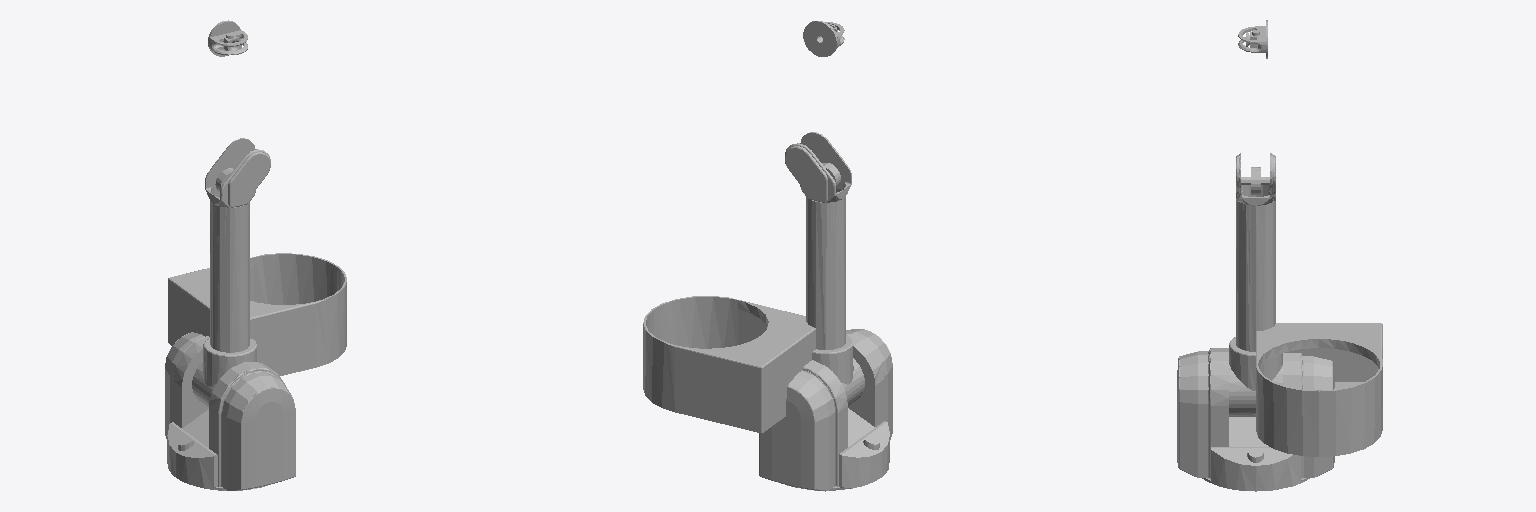
robot.urdf — iri_wam:
<?xml version="1.0" ?>
<!-- =================================================================================== -->
<!-- |    This document was autogenerated by xacro from xacro/wam.urdf.xacro           | -->
<!-- |    EDITING THIS FILE BY HAND IS NOT RECOMMENDED                                 | -->
<!-- =================================================================================== -->
<robot name="iri_wam" xmlns:xacro="http://www.ros.org/wiki/xacro">
  <!-- Set up definitions of parts of the robot body -->
  <!-- The first use of a macro. This one was defined in wambase.urdf.xacro above.
       A macro like this will expand to a set of link and joint definitions, and to additional
       Gazebo-related extensions (sensor plugins, etc).  The macro takes an argument, name, 
       that equals "wam", and uses it to generate names for its component links and joints 
       (e.g., wam_link_base).  The included origin block is also an argument to the macro.  By convention, 
       the origin block defines where the component is w.r.t its parent (in this case the parent 
       is the world frame). For more, see http://www.ros.org/wiki/xacro -->
  <link name="iri_wam_link_base">
    <inertial>
      <mass value="20"/>
      <origin xyz="0.0 0.0 0.0"/>
      <inertia ixx="1.0" ixy="0.0" ixz="0.0" iyy="1.0" iyz="0.0" izz="1.0"/>
    </inertial>
    <visual>
      <origin rpy="0 0 0" xyz="0 0 0"/>
      <geometry>
        <mesh filename="package://iri_wam_description/mesh/wambase.stl" scale="1.0 1.0 1.0"/>
      </geometry>
      <material name="Grey">
        <color rgba="0.75 0.75 0.75 1.0"/>
      </material>
    </visual>
    <collision>
      <origin rpy="0 0 0" xyz="0.0 0.0 0.0"/>
      <geometry>
        <mesh filename="package://iri_wam_description/mesh/wambase.stl" scale="1.0 1.0 1.0"/>
      </geometry>
      <contact_coefficients kd="1.0" kp="1000.0" mu="0"/>
    </collision>
  </link>
  <link name="iri_wam_link_footprint"/>
  <joint name="iri_wam_joint_footprint" type="fixed">
    <origin rpy="0 0 0" xyz="0.22 0.14 0.346"/>
    <child link="iri_wam_link_base"/>
    <parent link="iri_wam_link_footprint"/>
  </joint>
  <gazebo reference="iri_wam_link_base">
    <selfCollide>true</selfCollide>
    <material>Gazebo/Grey</material>
  </gazebo>
  <link name="iri_wam_link_1">
    <inertial>
      <mass value="8.3936"/>
      <origin rpy="0 0 0" xyz="0.0 0.0 0.0"/>
      <inertia ixx="1.0" ixy="0.0" ixz="0.0" iyy="1.0" iyz="0.0" izz="1.0"/>
    </inertial>
    <visual>
      <origin rpy="0 0 0" xyz="0.0 0.0 0.0"/>
      <geometry name="iri_wam_link_1_visual">
        <mesh filename="package://iri_wam_description/mesh/wam1.stl" scale="1.0 1.0 1.0"/>
      </geometry>
      <material name="Grey">
        <color rgba="0.75 0.75 0.75 1.0"/>
      </material>
    </visual>
    <collision>
      <origin rpy="0 0 0" xyz="0.0 0.0 0.0"/>
      <geometry name="iri_wam_link_1_collision">
        <mesh filename="package://iri_wam_description/mesh/wam1.stl" scale="1.0 1.0 1.0"/>
        <!--                <box size="0.20 0.40 0.40"/> -->
      </geometry>
      <contact_coefficients kd="1.0" kp="1000.0" mu="0"/>
    </collision>
  </link>
  <gazebo reference="iri_wam_link_1">
    <material>Gazebo/Grey</material>
    <selfCollide>true</selfCollide>
  </gazebo>
  <joint name="iri_wam_joint_1" type="revolute">
    <parent link="iri_wam_link_base"/>
    <child link="iri_wam_link_1"/>
    <origin rpy="0 0 0" xyz="0.0 0.0 0.0"/>
    <axis xyz="0 0 1"/>
    <limit effort="30" lower="-2.6" upper="2.6" velocity="2.0"/>
    <!-- <safety_controller k_velocity="0.5"/> -->
    <dynamics damping="100"/>
  </joint>
  <transmission name="j1_transmission" type="pr2_mechanism_model/SimpleTransmission">
    <actuator name="j1"/>
    <joint name="iri_wam_joint_1"/>
    <mechanicalReduction>1</mechanicalReduction>
    <motorTorqueConstant>1</motorTorqueConstant>
    <!-- <pulsesPerRevolution>90000</pulsesPerRevolution> -->
  </transmission>
  <link name="iri_wam_link_2">
    <inertial>
      <mass value="4.8487"/>
      <origin rpy="0 0 0" xyz="0 0 0"/>
      <inertia ixx="1.0" ixy="0.0" ixz="0.0" iyy="1.0" iyz="0.0" izz="1.0"/>
    </inertial>
    <visual>
      <origin rpy="0 0 0" xyz="0.0 0.0 0.0"/>
      <geometry name="iri_wam_link_2_visual">
        <mesh filename="package://iri_wam_description/mesh/wam2.stl" scale="1.0 1.0 1.0"/>
      </geometry>
      <material name="Grey">
        <color rgba="0.75 0.75 0.75 1.0"/>
      </material>
    </visual>
    <collision>
      <origin rpy="0 0 0" xyz="0.0 0.0 0.0"/>
      <geometry name="iri_wam_link_2_collision">
        <mesh filename="package://iri_wam_description/mesh/wam2.stl" scale="1.0 1.0 1.0"/>
        <!--                <box size="0.10 0.10 0.10"/> -->
      </geometry>
      <contact_coefficients kd="1.0" kp="1000.0" mu="0"/>
    </collision>
  </link>
  <gazebo reference="iri_wam_link_2">
    <material>Gazebo/Grey</material>
    <selfCollide>true</selfCollide>
  </gazebo>
  <joint name="iri_wam_joint_2" type="revolute">
    <parent link="iri_wam_link_1"/>
    <child link="iri_wam_link_2"/>
    <origin rpy="0 0 0" xyz="0.0 0.0 0.0"/>
    <axis xyz="0 1 0"/>
    <limit effort="30" lower="-2.0" upper="2.0" velocity="2.0"/>
    <!-- <safety_controller k_velocity="0.5"/> -->
    <dynamics damping="100"/>
  </joint>
  <transmission name="j2_transmission" type="pr2_mechanism_model/SimpleTransmission">
    <actuator name="j2"/>
    <joint name="iri_wam_joint_2"/>
    <mechanicalReduction>1</mechanicalReduction>
    <motorTorqueConstant>1</motorTorqueConstant>
    <!-- <pulsesPerRevolution>90000</pulsesPerRevolution> -->
  </transmission>
  <link name="iri_wam_link_3">
    <inertial>
      <mass value="1.7251"/>
      <origin rpy="0 0 0" xyz="0 0 0.225"/>
      <inertia ixx="1.0" ixy="0.0" ixz="0.0" iyy="1.0" iyz="0.0" izz="1.0"/>
    </inertial>
    <visual>
      <origin rpy="0 0 0" xyz="0.0 0.0 0.0"/>
      <geometry name="iri_wam_link_3_visual">
        <mesh filename="package://iri_wam_description/mesh/wam3.stl" scale="1.0 1.0 1.0"/>
      </geometry>
      <material name="Grey">
        <color rgba="0.75 0.75 0.75 1.0"/>
      </material>
    </visual>
    <collision>
      <origin rpy="0 0 0" xyz="0.0 0.0 0.0"/>
      <geometry name="iri_wam_link_3_collision">
        <mesh filename="package://iri_wam_description/mesh/wam3.stl" scale="1.0 1.0 1.0"/>
        <!--                <box size="0.10 0.10 0.10"/> -->
      </geometry>
      <contact_coefficients kd="1.0" kp="1000.0" mu="0"/>
    </collision>
  </link>
  <gazebo reference="iri_wam_link_3">
    <material>Gazebo/Grey</material>
    <selfCollide>true</selfCollide>
  </gazebo>
  <joint name="iri_wam_joint_3" type="revolute">
    <parent link="iri_wam_link_2"/>
    <child link="iri_wam_link_3"/>
    <origin rpy="0 0 0" xyz="0.0 0.0 0.0"/>
    <axis xyz="0 0 1"/>
    <limit effort="30" lower="-2.8" upper="2.8" velocity="2.0"/>
    <!-- <safety_controller k_velocity="0.5"/> -->
    <dynamics damping="100"/>
  </joint>
  <transmission name="j3_transmission" type="pr2_mechanism_model/SimpleTransmission">
    <actuator name="j3"/>
    <joint name="iri_wam_joint_3"/>
    <mechanicalReduction>1</mechanicalReduction>
    <motorTorqueConstant>1</motorTorqueConstant>
    <!-- <pulsesPerRevolution>90000</pulsesPerRevolution> -->
  </transmission>
  <link name="iri_wam_link_4">
    <inertial>
      <mass value="2.0824"/>
      <origin rpy="0 0 0" xyz="-0.045 -0.15 0"/>
      <inertia ixx="1.0" ixy="0.0" ixz="0.0" iyy="1.0" iyz="0.0" izz="1.0"/>
    </inertial>
    <visual>
      <origin rpy="0 0 0" xyz="0.0 0.0 0.0"/>
      <geometry name="iri_wam_link_4_visual">
        <mesh filename="package://iri_wam_description/mesh/wam4.stl" scale="1.0 1.0 1.0"/>
      </geometry>
      <material name="Grey">
        <color rgba="0.75 0.75 0.75 1.0"/>
      </material>
    </visual>
    <collision>
      <origin rpy="0 0 0" xyz="0.0 0.0 0.0"/>
      <geometry name="iri_wam_link_4_collision">
        <mesh filename="package://iri_wam_description/mesh/wam4.stl" scale="1.0 1.0 1.0"/>
        <!--                <box size="0.10 0.10 0.10"/> -->
      </geometry>
      <contact_coefficients kd="1.0" kp="1000.0" mu="0"/>
    </collision>
  </link>
  <gazebo reference="iri_wam_link_4">
    <material>Gazebo/Grey</material>
    <selfCollide>true</selfCollide>
  </gazebo>
  <joint name="iri_wam_joint_4" type="revolute">
    <parent link="iri_wam_link_3"/>
    <child link="iri_wam_link_4"/>
    <origin rpy="-1.57079632679 0 0" xyz="0.045 0.0 0.55"/>
    <axis xyz="0 0 1"/>
    <limit effort="35" lower="-0.9" upper="2.8" velocity="2.0"/>
    <!-- <safety_controller k_velocity="0.5"/> -->
    <dynamics damping="100"/>
  </joint>
  <transmission name="j4_transmission" type="pr2_mechanism_model/SimpleTransmission">
    <actuator name="j4"/>
    <joint name="iri_wam_joint_4"/>
    <mechanicalReduction>1</mechanicalReduction>
    <motorTorqueConstant>1</motorTorqueConstant>
    <!-- <pulsesPerRevolution>90000</pulsesPerRevolution> -->
  </transmission>
  <link name="iri_wam_link_5">
    <inertial>
      <mass value="0.3067"/>
      <origin rpy="0 0 0" xyz="0 0 0"/>
      <inertia ixx="1.0" ixy="0.0" ixz="0.0" iyy="1.0" iyz="0.0" izz="1.0"/>
    </inertial>
    <visual>
      <origin rpy="0 0 0" xyz="0.0 0.0 0.0"/>
      <geometry name="iri_wam_link_5_visual">
        <mesh filename="package://iri_wam_description/mesh/wam5.stl" scale="1.0 1.0 1.0"/>
      </geometry>
      <material name="Grey">
        <color rgba="0.75 0.75 0.75 1.0"/>
      </material>
    </visual>
    <collision>
      <origin rpy="0 0 0" xyz="0.0 0.0 0.0"/>
      <geometry name="iri_wam_link_5_collision">
        <mesh filename="package://iri_wam_description/mesh/wam5.stl" scale="1.0 1.0 1.0"/>
        <!--                <box size="0.10 0.10 0.10"/> -->
      </geometry>
      <contact_coefficients kd="1.0" kp="1000.0" mu="0"/>
    </collision>
  </link>
  <gazebo reference="iri_wam_link_5">
    <material>Gazebo/Grey</material>
    <selfCollide>true</selfCollide>
  </gazebo>
  <joint name="iri_wam_joint_5" type="revolute">
    <parent link="iri_wam_link_4"/>
    <child link="iri_wam_link_5"/>
    <origin rpy="1.57079632679 0 0" xyz="-0.045 -0.3 0.0"/>
    <axis xyz="0 0 1"/>
    <limit effort="30" lower="-4.8" upper="1.3" velocity="2.0"/>
    <!-- <safety_controller k_velocity="0.5"/> -->
    <dynamics damping="100"/>
  </joint>
  <transmission name="j5_transmission" type="pr2_mechanism_model/SimpleTransmission">
    <actuator name="j5"/>
    <joint name="iri_wam_joint_5"/>
    <mechanicalReduction>1</mechanicalReduction>
    <motorTorqueConstant>1</motorTorqueConstant>
    <!-- <pulsesPerRevolution>90000</pulsesPerRevolution> -->
  </transmission>
  <link name="iri_wam_link_6">
    <inertial>
      <mass value="0.4278"/>
      <origin rpy="0 0 0" xyz="0 0 0"/>
      <inertia ixx="1.0" ixy="0.0" ixz="0.0" iyy="1.0" iyz="0.0" izz="1.0"/>
    </inertial>
    <visual>
      <origin rpy="0 0 0" xyz="0.0 0.0 0.0"/>
      <geometry name="iri_wam_link_6_visual">
        <mesh filename="package://iri_wam_description/mesh/wam6.stl" scale="1.0 1.0 1.0"/>
      </geometry>
      <material name="Grey">
        <color rgba="0.75 0.75 0.75 1.0"/>
      </material>
    </visual>
    <collision>
      <origin rpy="0 0 0" xyz="0.0 0.0 0.0"/>
      <geometry name="iri_wam_link_6_collision">
        <mesh filename="package://iri_wam_description/mesh/wam6.stl" scale="1.0 1.0 1.0"/>
        <!--                <box size="0.10 0.10 0.10"/> -->
      </geometry>
      <contact_coefficients kd="1.0" kp="1000.0" mu="0"/>
    </collision>
  </link>
  <gazebo reference="iri_wam_link_6">
    <material>Gazebo/Grey</material>
    <selfCollide>true</selfCollide>
  </gazebo>
  <joint name="iri_wam_joint_6" type="revolute">
    <parent link="iri_wam_link_5"/>
    <child link="iri_wam_link_6"/>
    <origin rpy="-1.57079632679 0 0" xyz="0.0 0.0 0.0"/>
    <axis xyz="0 0 1"/>
    <limit effort="30" lower="-1.6" upper="1.6" velocity="2.0"/>
    <!-- <safety_controller k_velocity="0.5"/> -->
    <dynamics damping="100"/>
  </joint>
  <transmission name="j6_transmission" type="pr2_mechanism_model/SimpleTransmission">
    <actuator name="j6"/>
    <joint name="iri_wam_joint_6"/>
    <mechanicalReduction>1</mechanicalReduction>
    <motorTorqueConstant>1</motorTorqueConstant>
    <!-- <pulsesPerRevolution>90000</pulsesPerRevolution> -->
  </transmission>
  <link name="iri_wam_link_7">
    <inertial>
      <mass value="0.0557"/>
      <origin rpy="0 0 0" xyz="0 0 0"/>
      <inertia ixx="1.0" ixy="0.0" ixz="0.0" iyy="1.0" iyz="0.0" izz="1.0"/>
    </inertial>
    <visual>
      <origin rpy="0 0 0" xyz="0.0 0.0 0.0"/>
      <geometry name="iri_wam_link_7_visual">
        <mesh filename="package://iri_wam_description/mesh/wam7.stl" scale="1.0 1.0 1.0"/>
      </geometry>
      <material name="Grey">
        <color rgba="0.75 0.75 0.75 1.0"/>
      </material>
    </visual>
    <collision>
      <origin rpy="0 0 0" xyz="0.0 0.0 0.0"/>
      <geometry name="iri_wam_link_7_collision">
        <mesh filename="package://iri_wam_description/mesh/wam7.stl" scale="1.0 1.0 1.0"/>
        <!--                <box size="0.10 0.10 0.10"/> -->
      </geometry>
      <contact_coefficients kd="1.0" kp="1000.0" mu="0"/>
    </collision>
  </link>
  <gazebo reference="iri_wam_link_7">
    <material>Gazebo/Grey</material>
    <selfCollide>true</selfCollide>
  </gazebo>
  <joint name="iri_wam_joint_7" type="revolute">
    <parent link="iri_wam_link_6"/>
    <child link="iri_wam_link_7"/>
    <origin rpy="1.57079632679 0 0" xyz="0.0 0.0 0.0"/>
    <axis xyz="0 0 1"/>
    <limit effort="30" lower="-2.2" upper="2.2" velocity="2.0"/>
    <!-- <safety_controller k_velocity="0.5"/> -->
    <dynamics damping="100"/>
  </joint>
  <transmission name="j7_transmission" type="pr2_mechanism_model/SimpleTransmission">
    <actuator name="j7"/>
    <joint name="iri_wam_joint_7"/>
    <mechanicalReduction>1</mechanicalReduction>
    <motorTorqueConstant>1</motorTorqueConstant>
    <!-- <pulsesPerRevolution>90000</pulsesPerRevolution> -->
  </transmission>
  <link name="iri_wam_link_tcp"/>
  <joint name="iri_wam_joint_tcp" type="fixed">
    <parent link="iri_wam_link_7"/>
    <child link="iri_wam_link_tcp"/>
    <origin rpy="0 0 0" xyz="0.0 0.0 0.06"/>
  </joint>
</robot>

--- Facts derived from the render (not from the file) ---
3 views of the same robot in one strip: view 1: azimuth 30°, elevation 25°; view 2: azimuth 150°, elevation 25°; view 3: azimuth 270°, elevation 25° (orthographic).
Robot: iri_wam — 10 links, 9 joints (7 revolute, 2 fixed); root link iri_wam_link_footprint; default pose: all joints at 0.
Links seen in each view (by area): view 1: iri_wam_link_1, iri_wam_link_base, iri_wam_link_3, iri_wam_link_2, iri_wam_link_5; view 2: iri_wam_link_base, iri_wam_link_1, iri_wam_link_3, iri_wam_link_2, iri_wam_link_5; view 3: iri_wam_link_base, iri_wam_link_1, iri_wam_link_3, iri_wam_link_2, iri_wam_link_5.
Boxes of the visible links, x1,y1,x2,y2 form: iri_wam_link_1: (165, 332, 295, 490); iri_wam_link_base: (168, 253, 346, 375); iri_wam_link_3: (205, 138, 270, 352); iri_wam_link_2: (192, 338, 256, 407); iri_wam_link_5: (208, 20, 247, 56); iri_wam_link_base: (643, 296, 815, 432); iri_wam_link_1: (759, 329, 892, 491); iri_wam_link_3: (785, 132, 851, 349); iri_wam_link_2: (812, 335, 864, 405); iri_wam_link_5: (803, 21, 844, 56); iri_wam_link_base: (1256, 323, 1382, 456); iri_wam_link_1: (1177, 348, 1334, 491); iri_wam_link_3: (1236, 153, 1275, 351); iri_wam_link_2: (1229, 337, 1282, 416); iri_wam_link_5: (1238, 20, 1267, 58).
Size in the robot's own frame: 0.5 by 0.4538 by 1.08 metres.
5 mesh visuals loaded from 8 distinct referenced files (5 binary STL); not drawn: 3 (reference not matched to a file when rendering).